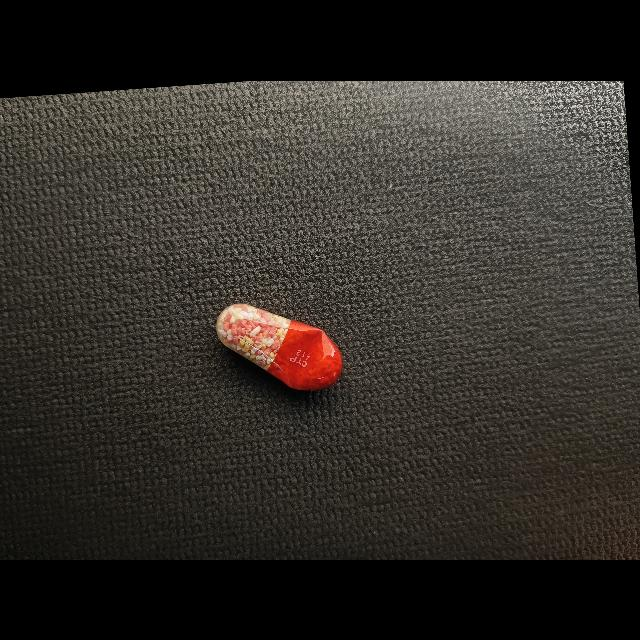Defective Capsule: (216, 303, 343, 390)
